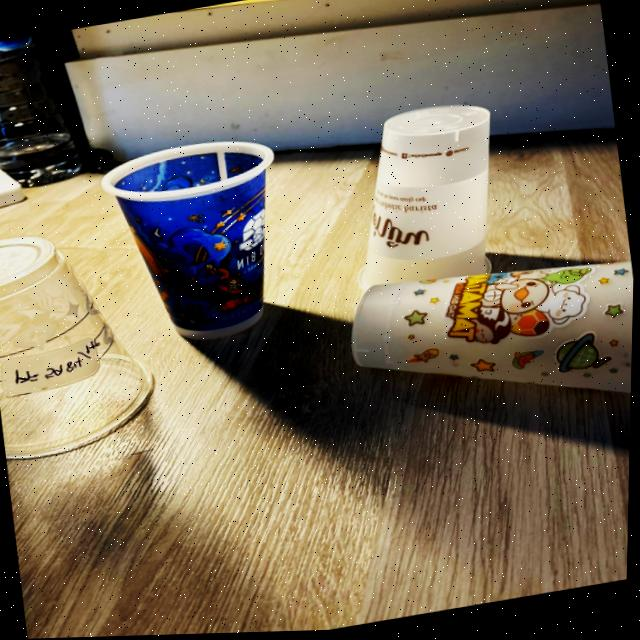Plastic Cup: (354, 265, 635, 397), (0, 237, 156, 460), (103, 144, 274, 341), (361, 109, 491, 290)
